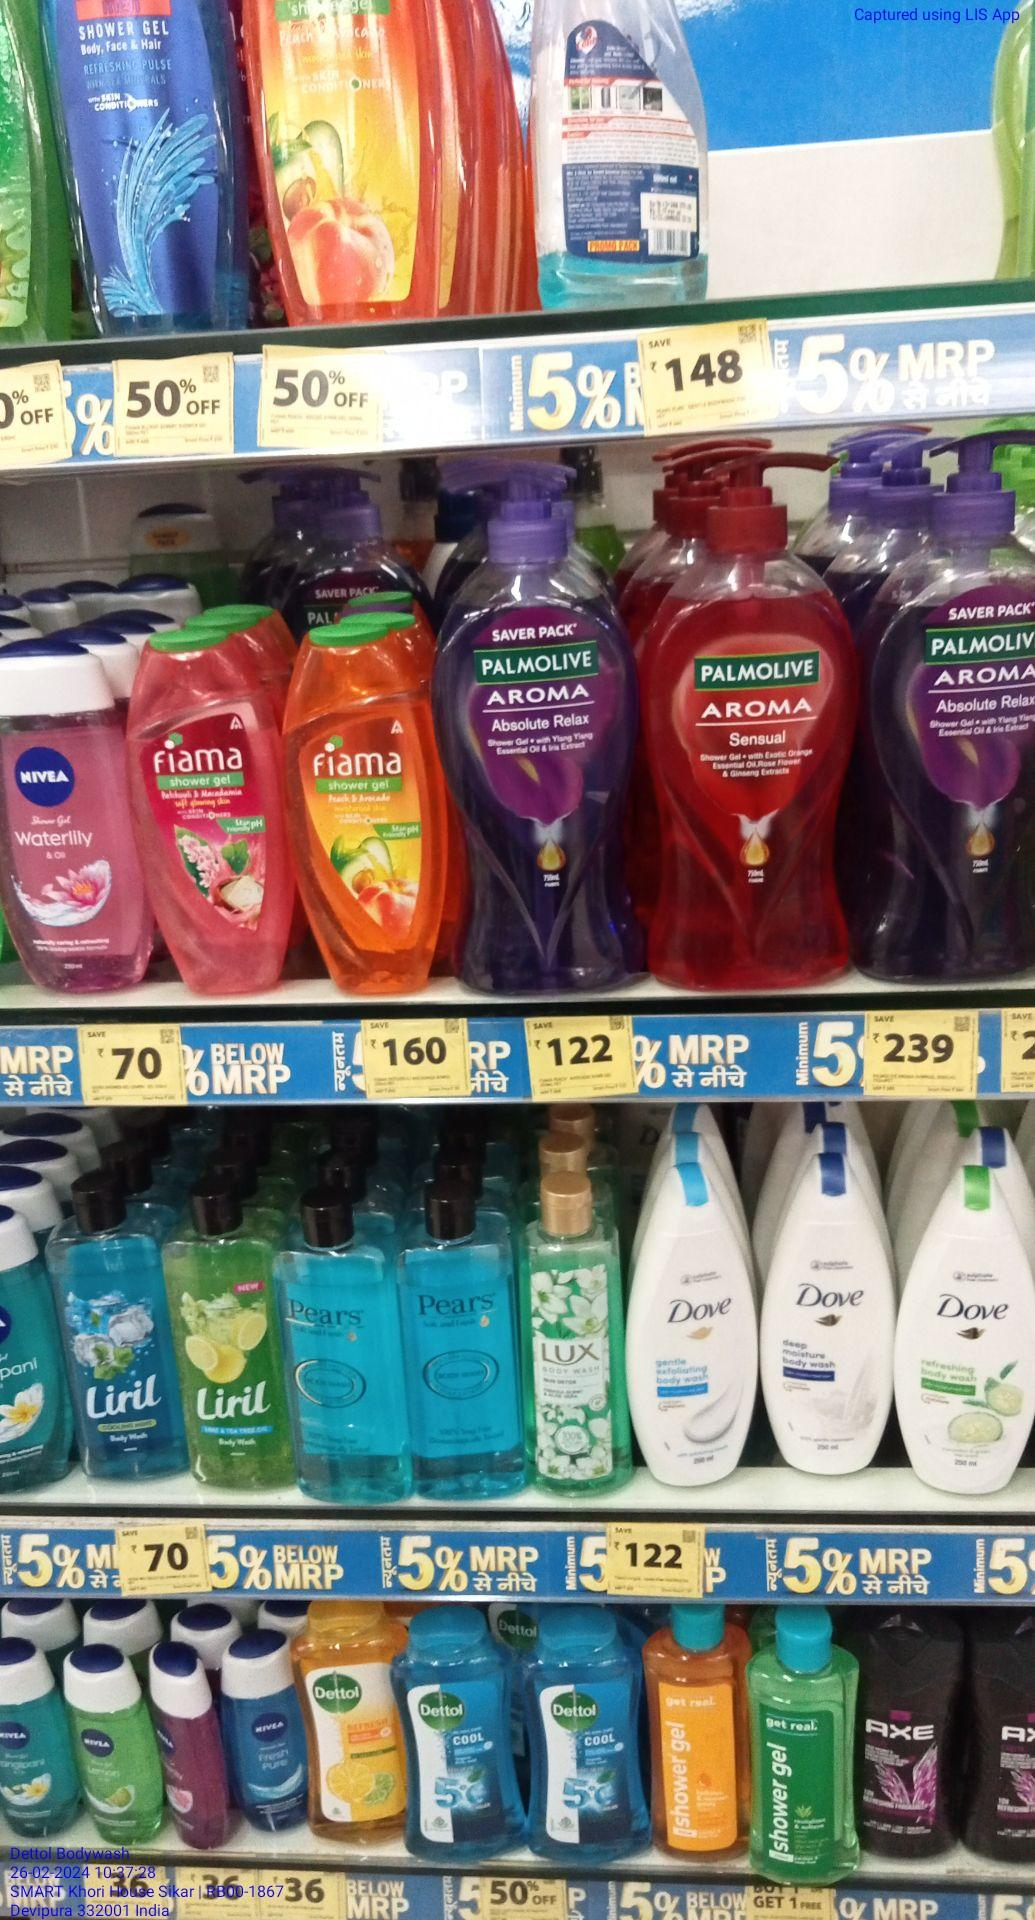Dettol_Bodywash_Cool: (395, 1600, 533, 1861), (528, 1599, 654, 1864)
Dettol_Bodywash_Refresh: (294, 1591, 410, 1844)
Dove_Deep_Moisture_Body_Wash_250ML: (758, 1150, 892, 1477)
Dove_Gentle_Exfoliating_Body_Wash_250ML: (625, 1142, 758, 1489)
Dove_Refreshing_Body_Wash_250ML: (894, 1150, 1035, 1496)
Fiama_Shower_Gel_Patchouli_and_Macadamia_250ML: (125, 626, 293, 995)
Fiama_Shower_Gel_Peach_and_Avocado_250ML: (286, 619, 450, 994)
Get_Real_Shower_Gel_Moisturising_Glycerin_300ML: (644, 1604, 753, 1861)
Lux_Body_Wash_Skin_Detox_Freesia_Scent_and_Alove_Vera_245ML: (514, 1171, 635, 1496)
Nivea_Shower_Gel_Waterlily_and_Oil_250ML: (1, 636, 154, 992)
Pears_Pure_Glycerin_and_Mint_Extracts_Body_Wash_250ML: (274, 1189, 412, 1505), (396, 1179, 530, 1500)
